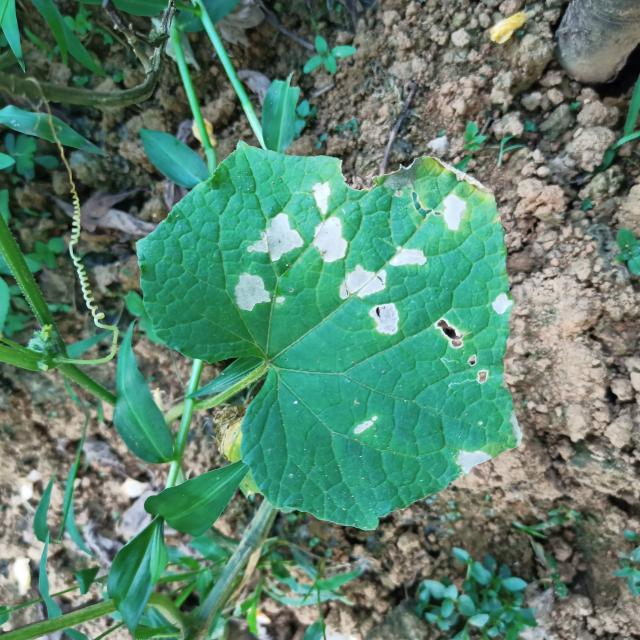disease_cucumber: (339, 264, 402, 336), (435, 318, 489, 384), (310, 181, 349, 265), (246, 212, 306, 264), (233, 272, 286, 313), (443, 192, 467, 232), (456, 448, 491, 475), (389, 245, 427, 269), (354, 413, 378, 438), (491, 292, 512, 316)
